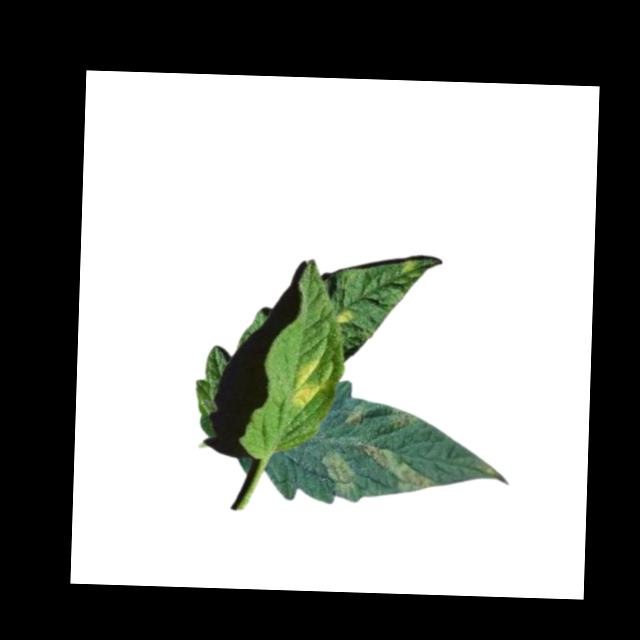Leaf_Mold: (359, 439, 440, 493), (320, 450, 357, 499), (289, 358, 318, 405), (388, 403, 419, 431), (343, 409, 363, 428), (333, 309, 355, 325)
